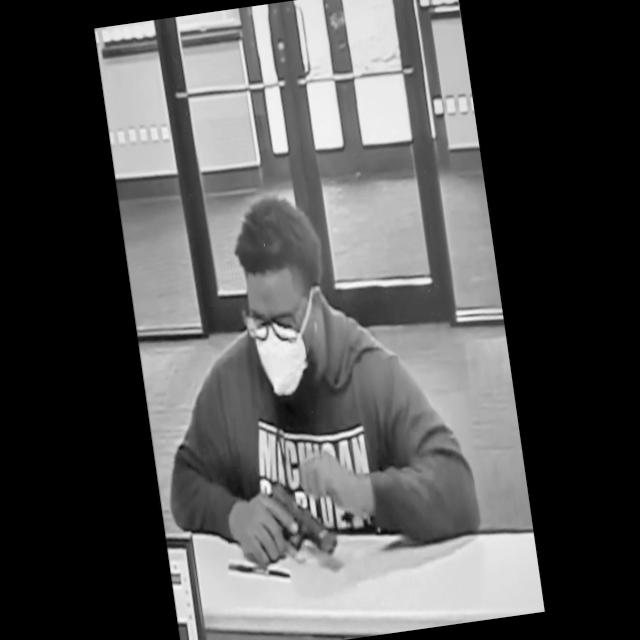gun: (248, 474, 341, 568)
person with a gun: (130, 174, 483, 578)
